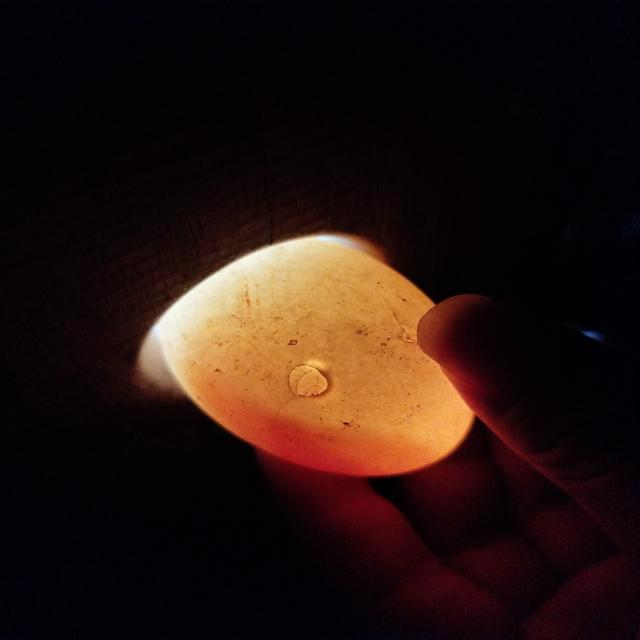Rachadura: (290, 365, 328, 398), (399, 323, 418, 344)
